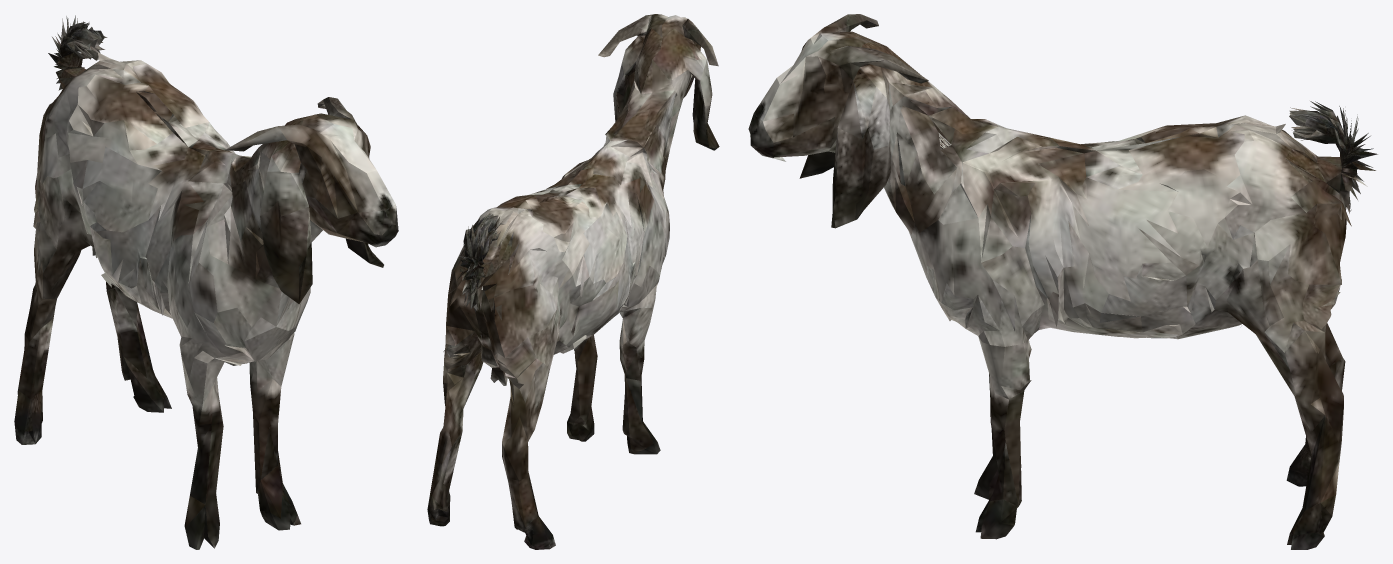
Rendered from goat.glb.
The picture shows the model from 3 angles, left to right: view 1: azimuth 30°, elevation 25°; view 2: azimuth 150°, elevation 25°; view 3: azimuth 270°, elevation 25°; orthographic projection. The views are drawn at different scales.
Bounding box in the file's own units: 0.5349 × 1.6 × 1.9.
Materials: 1 (1 with a texture image).
